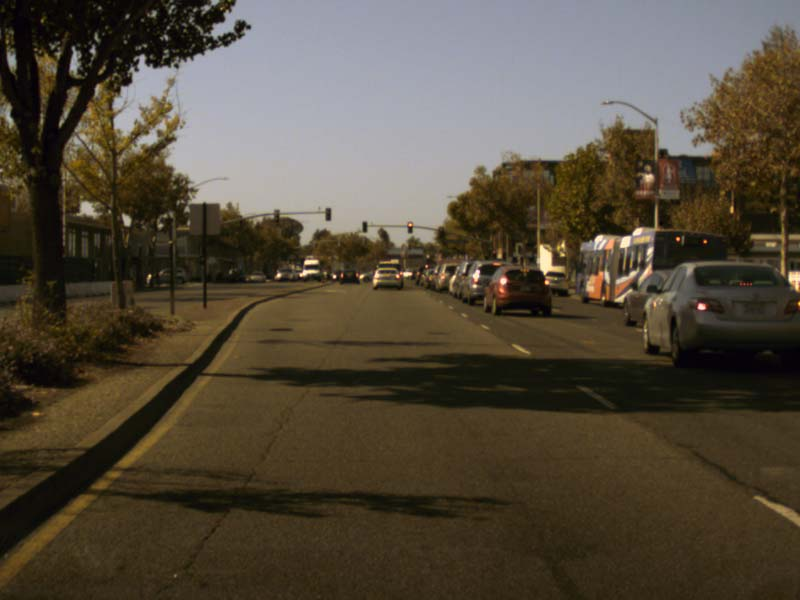Red: (491, 249, 495, 258)
Yellow: (407, 221, 412, 232)
